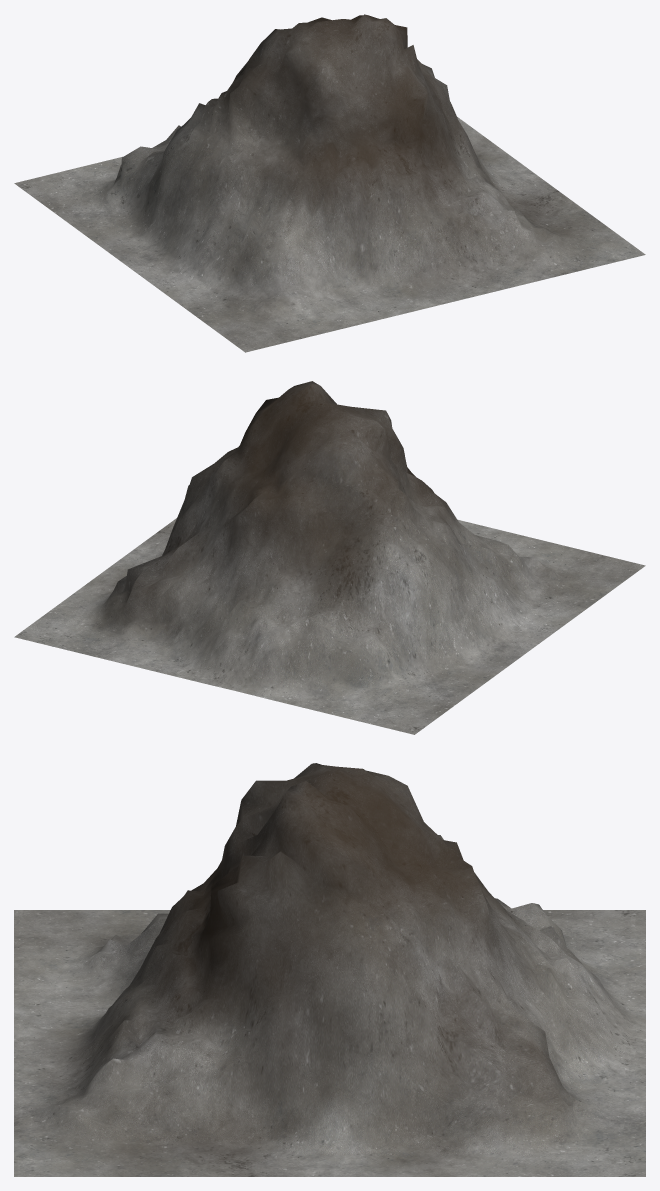
The model's file is Dirtpile_2.fbx.
The picture shows the model from 3 angles, top to bottom: view 1: azimuth 30°, elevation 25°; view 2: azimuth 150°, elevation 25°; view 3: azimuth 270°, elevation 25°; orthographic projection. The views are drawn at different scales.
Parts seen in each view (by area): view 1: pPlane1; view 2: pPlane1; view 3: pPlane1.
Boxes of the visible parts, left/top/right/bottom form: pPlane1: left=14, top=14, right=645, bottom=352; pPlane1: left=14, top=381, right=645, bottom=734; pPlane1: left=14, top=763, right=645, bottom=1176.
Bounding box in the file's own units: 23.28 × 11.37 × 23.28.
